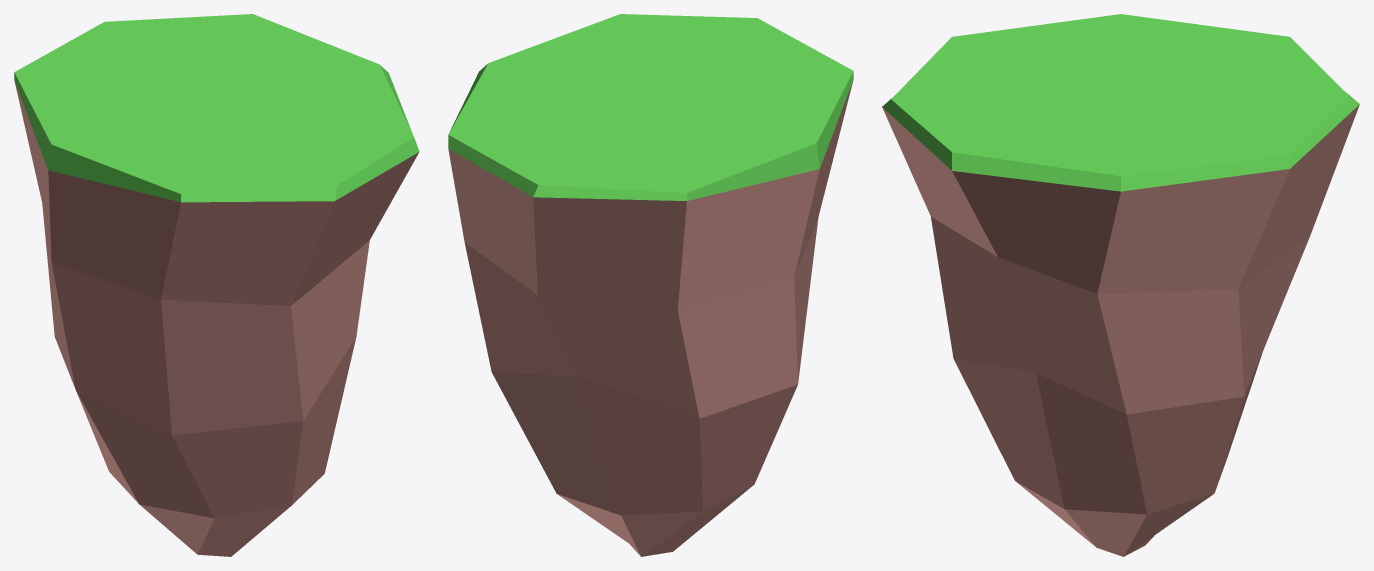
The model's file is Medium Island.glb.
3 views of the same model, side by side, from view 1: azimuth 30°, elevation 25°; view 2: azimuth 150°, elevation 25°; view 3: azimuth 270°, elevation 25° (orthographic).
Visible parts, largest first — view 1: Cylinder; view 2: Cylinder; view 3: Cylinder.
Boxes of the visible parts, x1,y1,x2,y2 form: Cylinder: [14, 14, 419, 556]; Cylinder: [448, 14, 853, 556]; Cylinder: [882, 14, 1359, 556].
Bounding box in the file's own units: 1.2 × 1.5 × 1.44.
